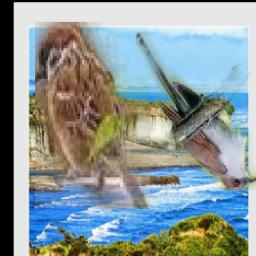Cuckoo: (136, 33, 256, 191)
Sparrow: (35, 23, 150, 210)
